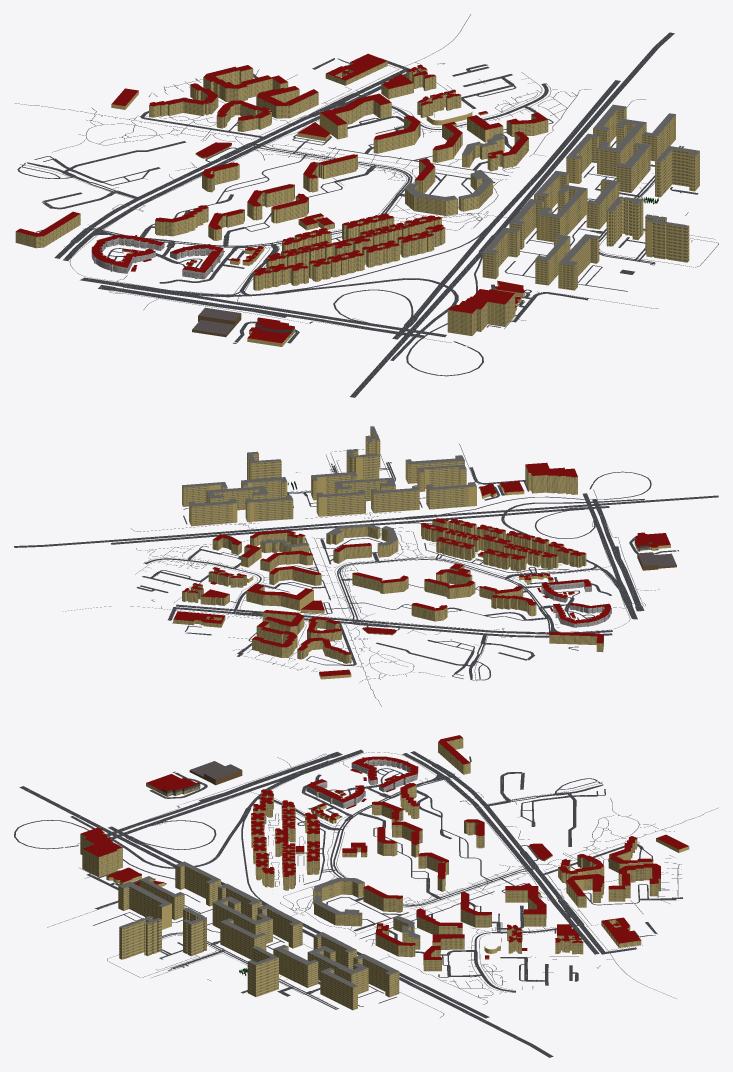
Rendered from osm3d.glb.
3 views of the same model, one above another, from view 1: azimuth 30°, elevation 25°; view 2: azimuth 150°, elevation 25°; view 3: azimuth 270°, elevation 25° (orthographic). The views are drawn at different scales.
Parts seen in each view (by area): view 1: Plaster002, ASPHALT, Windows, RoofingTiles010, Concrete034, Plaster002.001, Concrete034.001; view 2: Plaster002, ASPHALT, Windows, RoofingTiles010, Concrete034, Plaster002.001, Concrete034.001; view 3: Plaster002, ASPHALT, Windows, RoofingTiles010, Concrete034, Plaster002.001, Concrete034.001.
Boxes of the visible parts, x1,y1,x2,y2 form: Plaster002: [15, 61, 699, 335]; ASPHALT: [15, 32, 718, 397]; Windows: [16, 62, 699, 335]; RoofingTiles010: [16, 53, 547, 343]; Concrete034: [52, 14, 699, 310]; Plaster002.001: [91, 235, 223, 279]; Concrete034.001: [192, 307, 241, 337]; Plaster002: [173, 427, 603, 679]; ASPHALT: [14, 444, 718, 706]; Windows: [173, 429, 603, 663]; RoofingTiles010: [173, 462, 670, 676]; Concrete034: [63, 426, 659, 676]; Plaster002.001: [541, 581, 611, 627]; Concrete034.001: [637, 552, 676, 570]; Plaster002: [80, 738, 689, 1010]; ASPHALT: [14, 749, 718, 1057]; Windows: [80, 738, 660, 1009]; RoofingTiles010: [81, 735, 688, 959]; Concrete034: [119, 752, 680, 998]; Plaster002.001: [306, 758, 418, 808]; Concrete034.001: [189, 761, 242, 785].
Bounding box in the file's own units: 1481 × 70.04 × 1412.
Materials: 23 (23 with a texture image).
